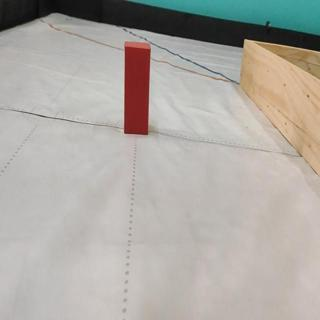redbox: (121, 40, 151, 137)
